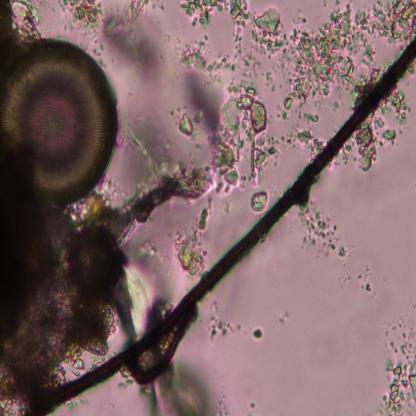Background material: (0, 205, 138, 366), (285, 0, 416, 119), (202, 76, 272, 214), (62, 2, 168, 89), (179, 0, 285, 76), (174, 32, 236, 153), (349, 91, 413, 172), (378, 300, 416, 414), (300, 197, 348, 267), (146, 363, 208, 415), (175, 209, 209, 276), (0, 0, 43, 51), (271, 128, 324, 158), (206, 312, 242, 343), (358, 265, 372, 292), (250, 326, 264, 342), (277, 311, 289, 325), (247, 401, 256, 410)
Cellulose filter fibre: (95, 162, 214, 240)
Diatom: (0, 35, 115, 204)
Natural material: (37, 37, 416, 414)
